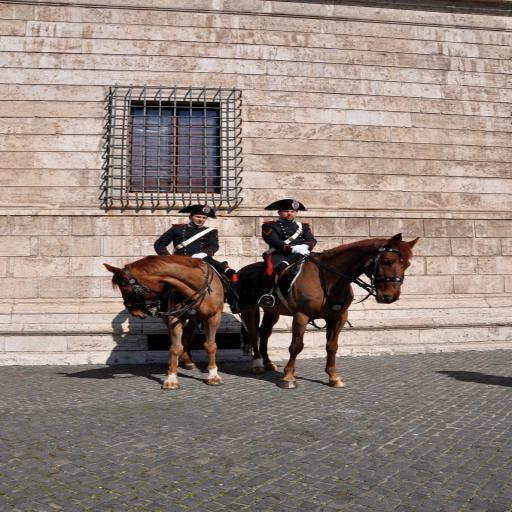horse: (234, 233, 422, 389), (105, 255, 226, 389)
